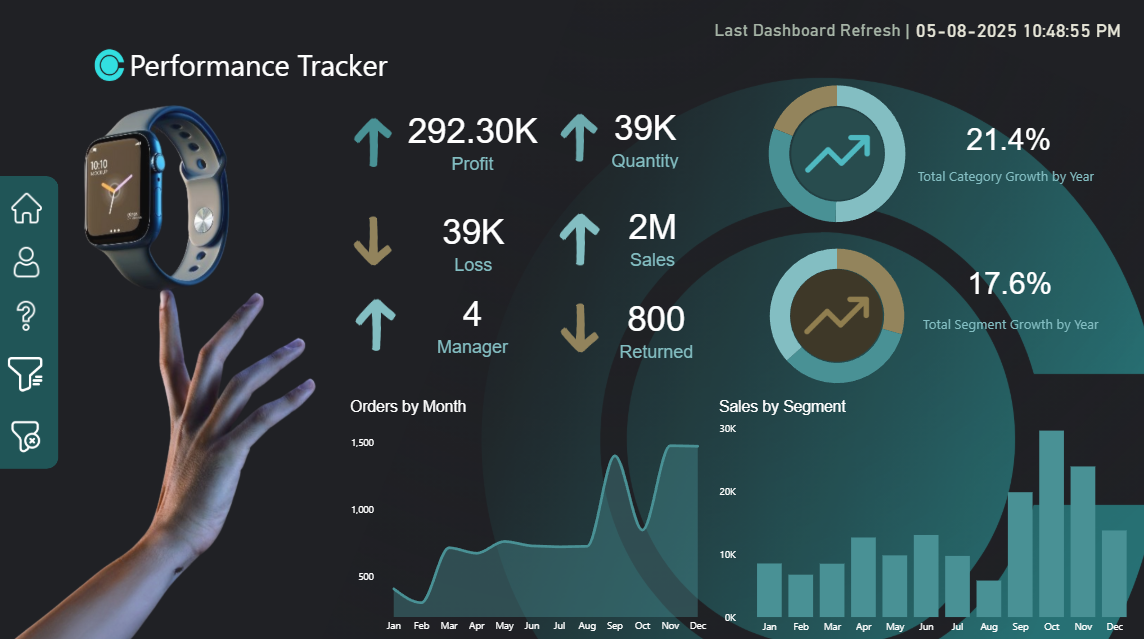

What the dashboard file says about the page in this screenshot:
{"tool":"powerbi","page":{"name":"Page1","canvas":[1280,720],"ordinal":0},"visuals":[{"type":"group","id":"g1","title":"Group 1","box":[826.5,75,215,199.9],"z":0,"group":"g4"},{"type":"donutChart","title":"Sales 2023 by Segment","fields":{"Y":["Orders.Total_Sales"],"Category":["Orders.Segment"]},"box":[826.5,75,215,199.9],"z":0,"group":"g1"},{"type":"group","id":"g2","title":"Group 5","box":[0,195.3,69.7,330.1],"z":0,"group":"g3"},{"type":"lineChart","title":"Orders by Month","fields":{"Category":["Orders.Month"],"Y":["CountNonNull(Orders.Customer ID)"]},"box":[388.3,446.7,408.3,270],"z":0},{"type":"textbox","box":[143.8,48.5,372.5,59.1],"z":1000},{"type":"image","box":[877.4,110.6,112.9,131.3],"z":1000,"group":"g1"},{"type":"shape","title":"Shape Curve","box":[0,199.8,69.7,325.6],"z":1000,"group":"g2"},{"type":"image","box":[5.1,368,54.5,104.5],"z":2000,"group":"g2"},{"type":"columnChart","title":"Sales by Segment","fields":{"Category":["Orders.Month"],"Series":["Orders.Segment"],"Y":["Orders.Current_year_sales"]},"box":[798,446.7,477,271],"z":2000},{"type":"image","box":[11.8,213.5,44.5,44.5],"z":4000,"group":"g2"},{"type":"image","box":[6.6,333.6,53.1,43.7],"z":5000,"group":"g2"},{"type":"group","id":"g3","title":"Buttons","box":[0,195.3,69.7,330.1],"z":6000},{"type":"image","box":[5.7,465.3,55,49.3],"z":7000,"group":"g2"},{"type":"shape","box":[796.4,8.2,220,58.2],"z":8000},{"type":"image","box":[12.4,273.5,50.4,44.1],"z":8000,"group":"g2"},{"type":"card","fields":{"Values":["Min(Date_Refresh.Date_Time)"]},"box":[1005.8,8.3,261.4,58.3],"z":9000},{"type":"card","fields":{"Values":["Sum(Orders.Profit)"]},"box":[448.3,118.3,161.7,80],"z":10000},{"type":"card","fields":{"Values":["Sum(Orders.Quantity)"]},"box":[451.7,230,156.7,81.7],"z":11000},{"type":"card","fields":{"Values":["Orders.Total_Sales"]},"box":[655,225,148.3,80],"z":12000},{"type":"image","box":[616,120.2,63.6,74.2],"z":13000},{"type":"image","box":[385.2,129.8,69.7,65.1],"z":14000},{"type":"image","box":[615.6,233.3,68.3,73.3],"z":15000},{"type":"image","box":[386.7,235,65,75],"z":16000},{"type":"card","fields":{"Values":["Sum(Orders.Quantity)"]},"box":[643.3,115,155,81.7],"z":17000},{"type":"image","box":[863.6,299.1,140.9,112.7],"z":18000},{"type":"card","fields":{"Values":["Orders.Sales_growth"]},"box":[1057.5,120.5,133.3,75.7],"z":19000},{"type":"card","fields":{"Values":["Orders.Sales_growth"]},"box":[1070.6,276.9,112.1,83.3],"z":20000},{"type":"shape","box":[1018.2,171.5,207.4,56],"z":21000},{"type":"shape","box":[1022.9,337.1,208.6,54.3],"z":22000},{"type":"group","id":"g4","title":"Group 2","box":[826.5,75,215,199.9],"z":23000},{"type":"donutChart","title":"Sales 2023 by Category","fields":{"Y":["Orders.Current_year_sales"],"Category":["Orders.Category"]},"box":[826.8,257.4,215,196.8],"z":24000},{"type":"card","fields":{"Values":["CountNonNull(Returns.Returned)"]},"box":[655,326.7,156.7,81.7],"z":25000},{"type":"card","fields":{"Values":["CountNonNull(People.Regional Manager)"]},"box":[451.7,313.3,155,96.7],"z":26000},{"type":"image","box":[388.3,328.3,68.3,73.3],"z":27000},{"type":"image","box":[616.7,331.7,65,75],"z":28000}]}

Visuals, with their boxes in screenshot pixels (x1, y1, x2, y2), scaled from the page's 1280x720 canvas onto the 1144x639 screenshot:
"Group 1" group: (x1=739, y1=67, x2=931, y2=244)
"Sales 2023 by Segment" donutChart: (x1=739, y1=67, x2=931, y2=244)
"Group 5" group: (x1=0, y1=173, x2=62, y2=466)
"Orders by Month" lineChart: (x1=347, y1=396, x2=712, y2=636)
textbox: (x1=129, y1=43, x2=461, y2=95)
image: (x1=784, y1=98, x2=885, y2=215)
"Shape Curve" shape: (x1=0, y1=177, x2=62, y2=466)
image: (x1=5, y1=327, x2=53, y2=419)
"Sales by Segment" columnChart: (x1=713, y1=396, x2=1140, y2=637)
image: (x1=11, y1=189, x2=50, y2=229)
image: (x1=6, y1=296, x2=53, y2=335)
"Buttons" group: (x1=0, y1=173, x2=62, y2=466)
image: (x1=5, y1=413, x2=54, y2=457)
shape: (x1=712, y1=7, x2=908, y2=59)
image: (x1=11, y1=243, x2=56, y2=282)
card - Min(Date_Refresh.Date_Time): (x1=899, y1=7, x2=1133, y2=59)
card - Sum(Orders.Profit): (x1=401, y1=105, x2=545, y2=176)
card - Sum(Orders.Quantity): (x1=404, y1=204, x2=544, y2=277)
card - Orders.Total_Sales: (x1=585, y1=200, x2=718, y2=271)
image: (x1=551, y1=107, x2=607, y2=173)
image: (x1=344, y1=115, x2=407, y2=173)
image: (x1=550, y1=207, x2=611, y2=272)
image: (x1=346, y1=209, x2=404, y2=275)
card - Sum(Orders.Quantity): (x1=575, y1=102, x2=713, y2=175)
image: (x1=772, y1=265, x2=898, y2=365)
card - Orders.Sales_growth: (x1=945, y1=107, x2=1064, y2=174)
card - Orders.Sales_growth: (x1=957, y1=246, x2=1057, y2=320)
shape: (x1=910, y1=152, x2=1095, y2=202)
shape: (x1=914, y1=299, x2=1101, y2=347)
"Group 2" group: (x1=739, y1=67, x2=931, y2=244)
"Sales 2023 by Category" donutChart: (x1=739, y1=228, x2=931, y2=403)
card - CountNonNull(Returns.Returned): (x1=585, y1=290, x2=725, y2=362)
card - CountNonNull(People.Regional Manager): (x1=404, y1=278, x2=542, y2=364)
image: (x1=347, y1=291, x2=408, y2=356)
image: (x1=551, y1=294, x2=609, y2=361)
